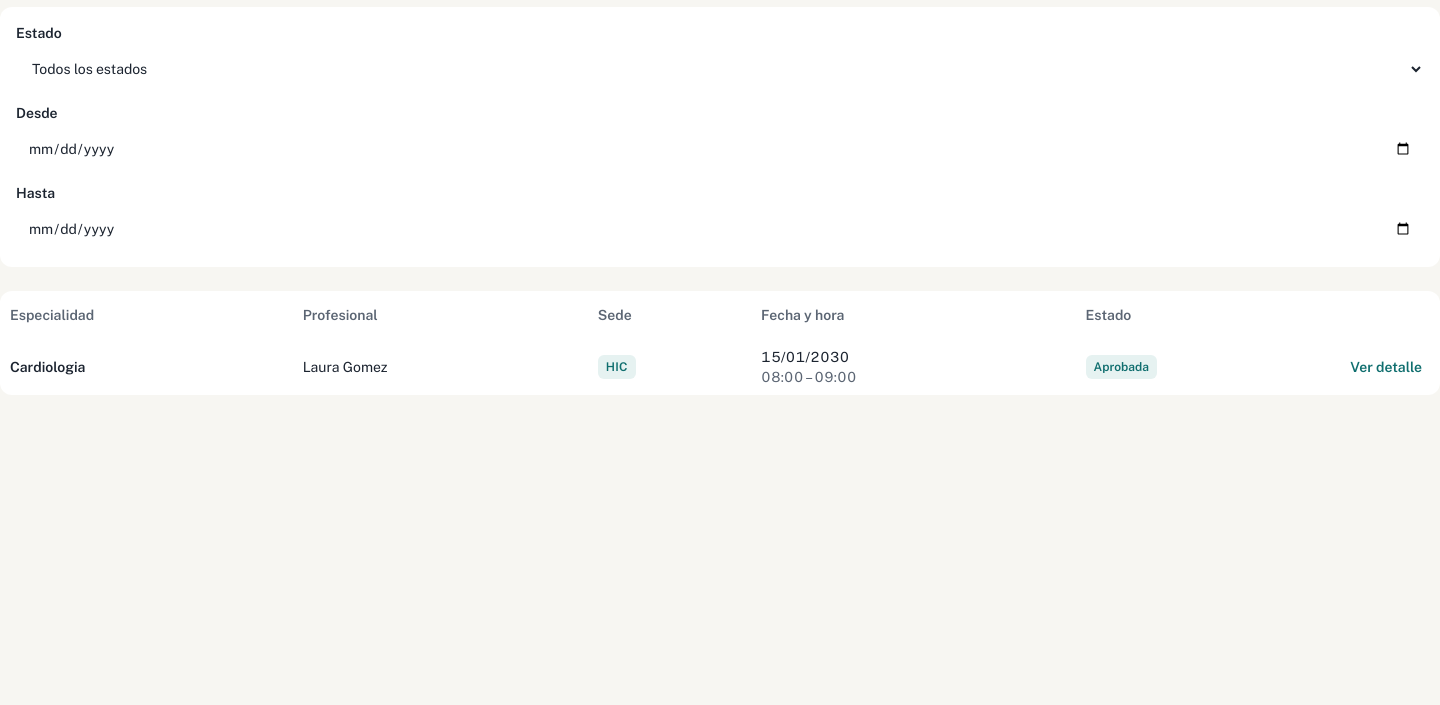
Test: MyAppointmentsPage — reprogramación (HU-018) › CA-01 busca franjas del mismo profesional y especialidad, envía la elegida y muestra la solicitud pendiente
Click the button with aria-label "Ver detalle de Cardiologia".
click(1386, 367)  # box x1=1342 y1=347 x2=1430 y2=387
(page scrolled)
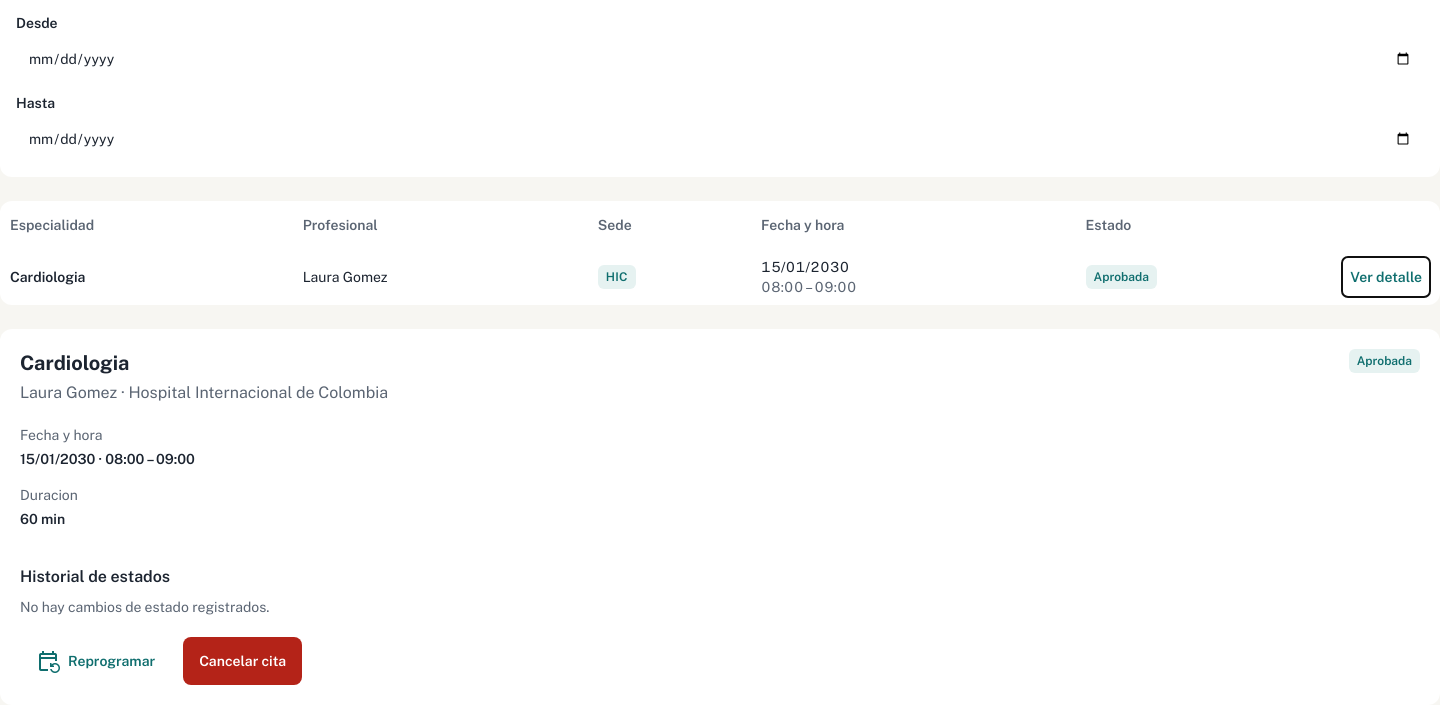
Click the button "Reprogramar".
click(96, 661)  # box x1=20 y1=637 x2=171 y2=685
(page scrolled)
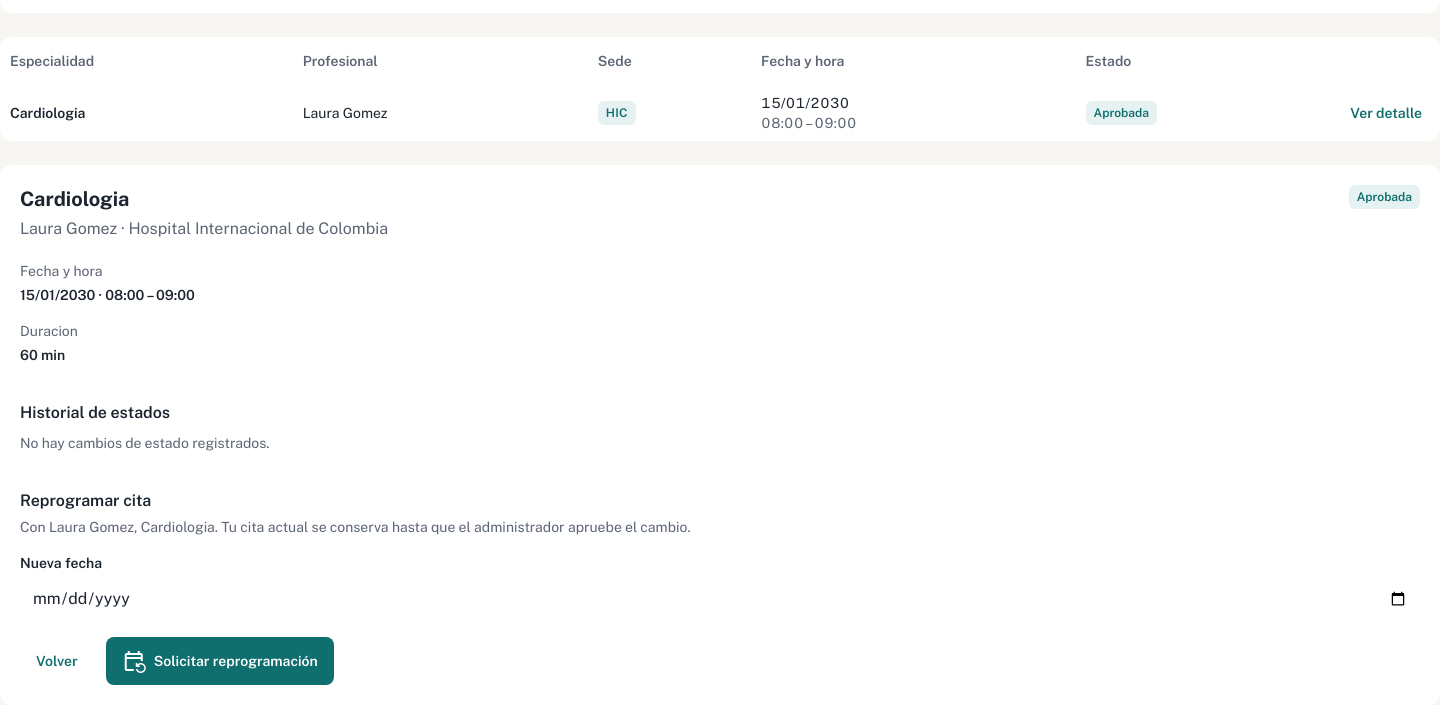
Now the button "Solicitar reprogramación" is disabled, box x1=106 y1=637 x2=334 y2=685
Type "2030-01-16" into the date field labelled "Nueva fecha".
click(720, 599); type("2030-01-16")  # box x1=20 y1=577 x2=1420 y2=621
(page scrolled)
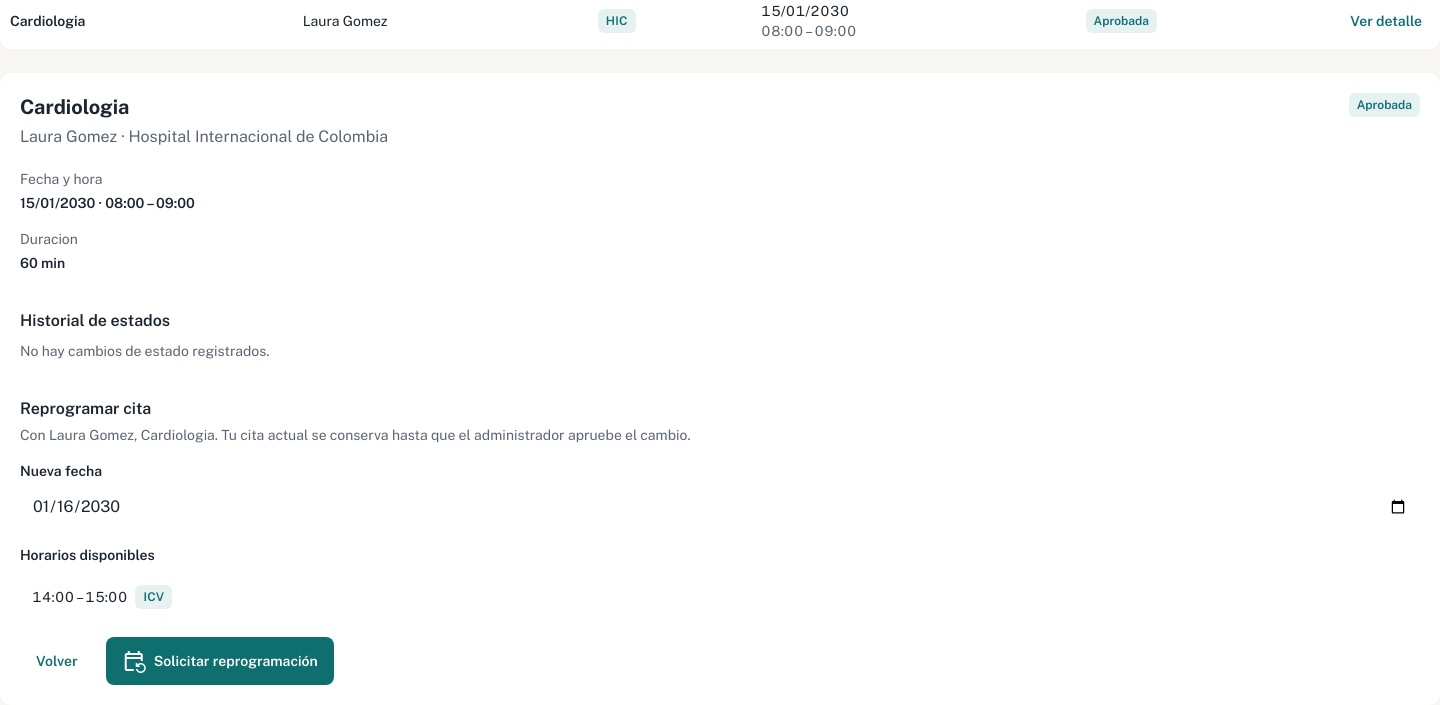
Click the radio button labelled "14:00 – 15:00 ICV".
click(102, 597)  # box x1=20 y1=573 x2=184 y2=621
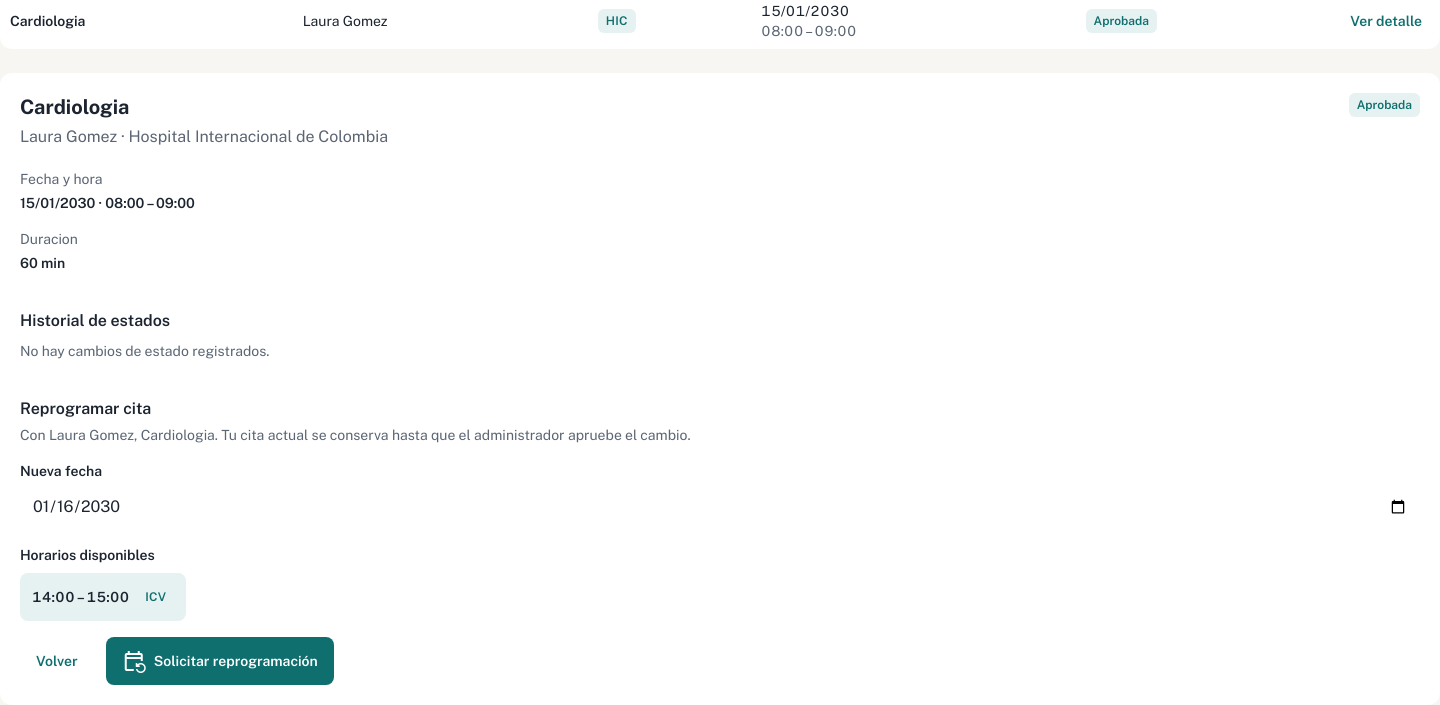
Click the button "Solicitar reprogramación".
click(220, 661)  # box x1=106 y1=637 x2=334 y2=685
(page scrolled)
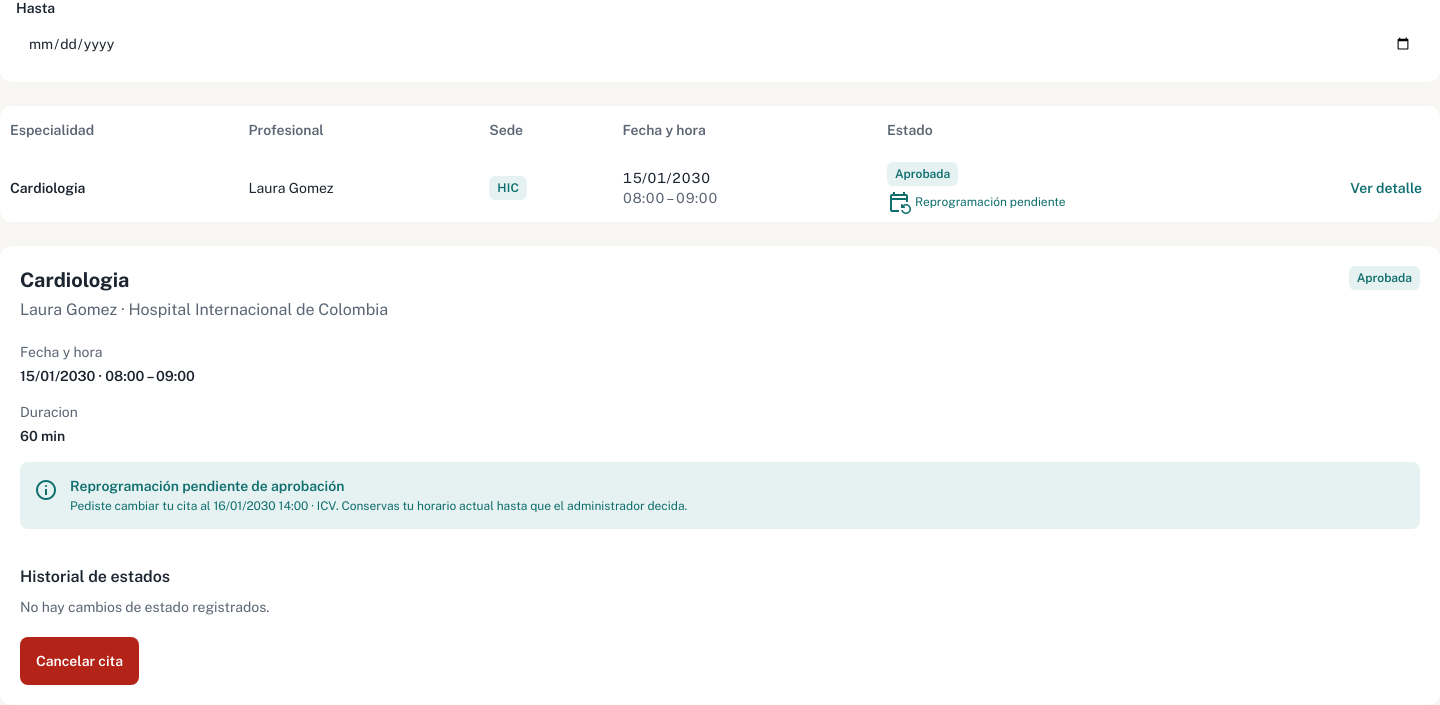
Now the text "Reprogramación pendiente de aprobación" is shown, box x1=70 y1=478 x2=344 y2=494
Now the text "Pediste cambiar tu cita al 16/01/2030 14:00 · ICV. Conservas tu horario actual" is shown, box x1=70 y1=499 x2=687 y2=513
Now the heading "Reprogramar" is gone
